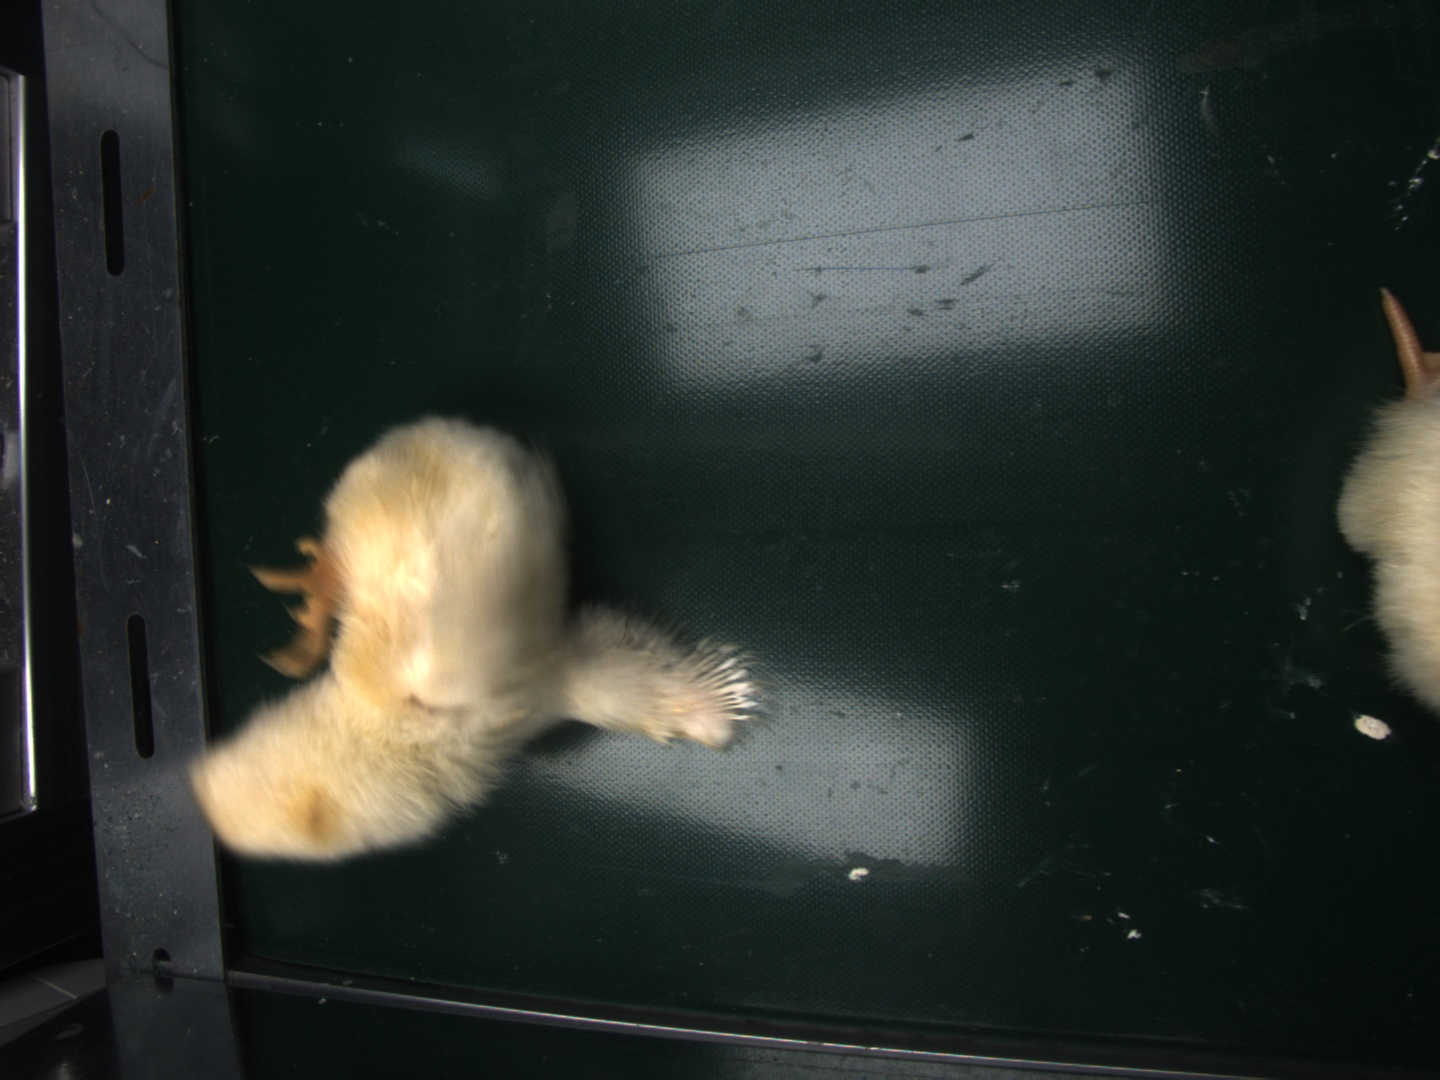male: (691, 647, 748, 724)
